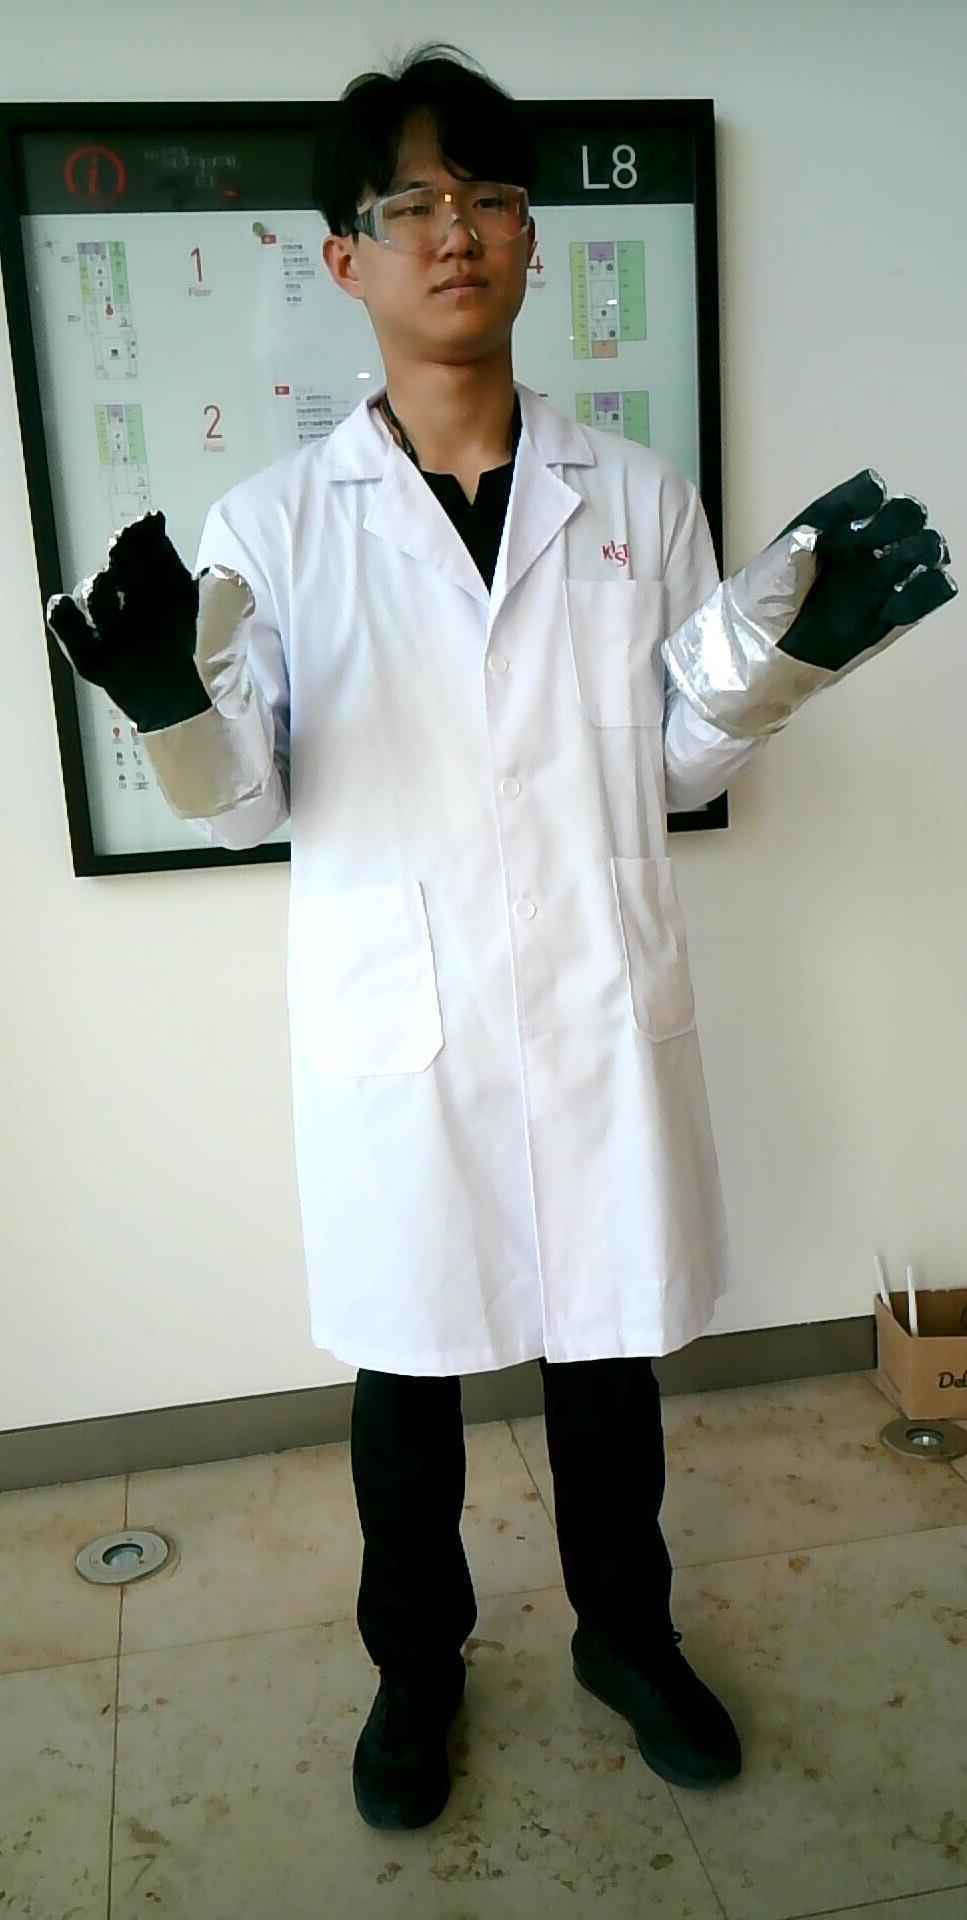lab_coat: (278, 461, 685, 1349)
